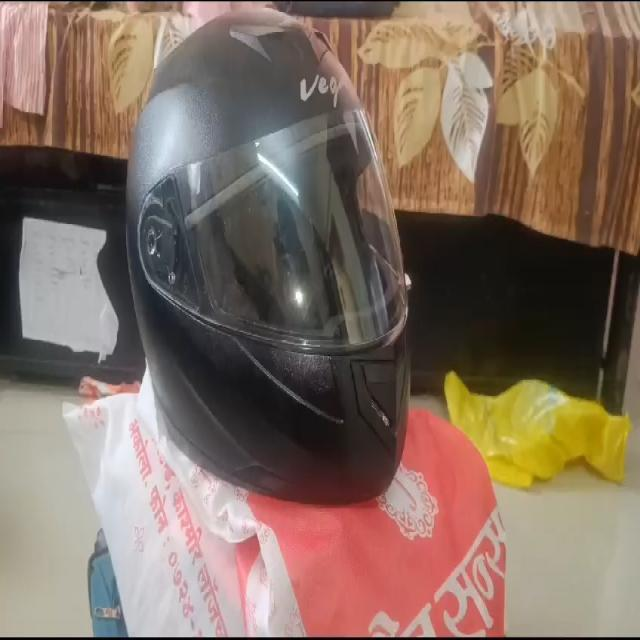Helmet: (126, 9, 410, 502)
